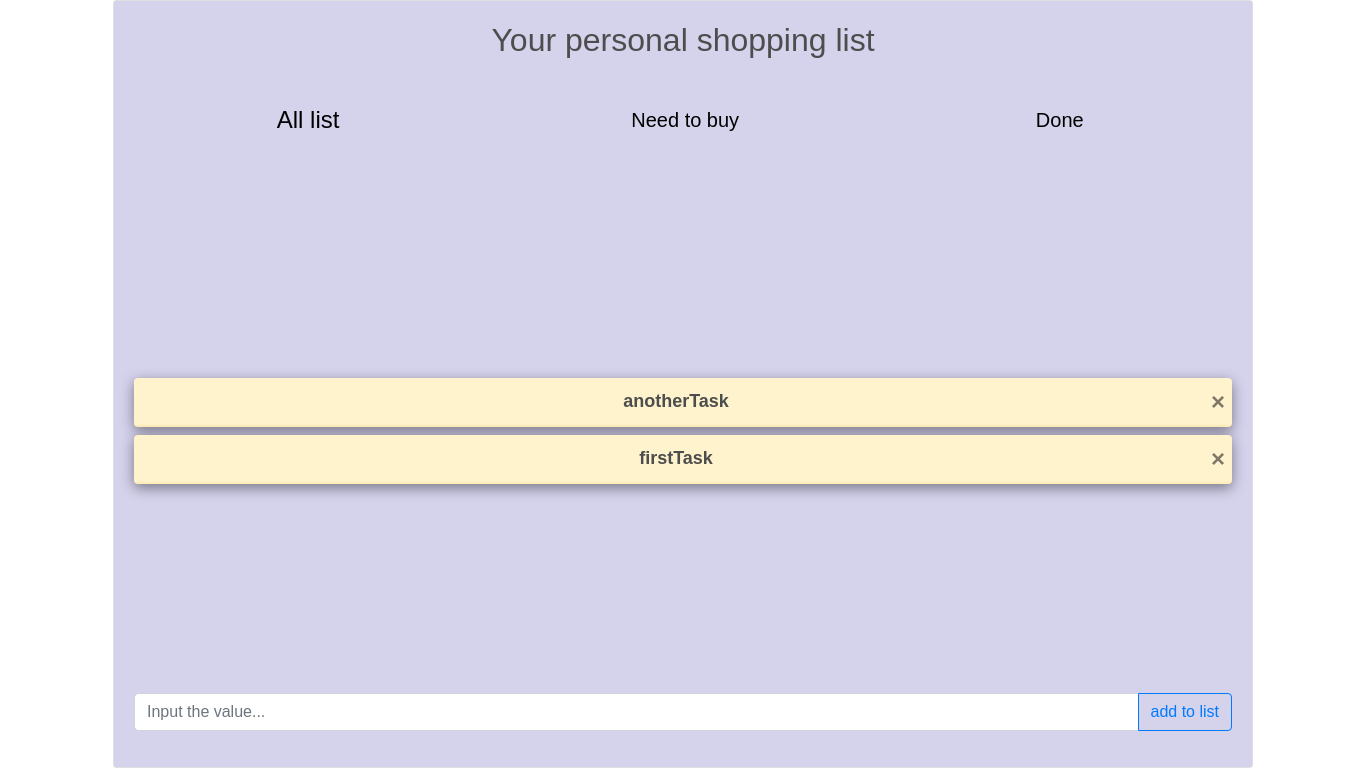
Test case: remove task
Check: the number of elements with test id "listEl" is 2, box [134,378,1232,427]; [134,435,1232,484]
Click the 1st button with test id "close" at (1218, 402), box [1211,381,1225,422]
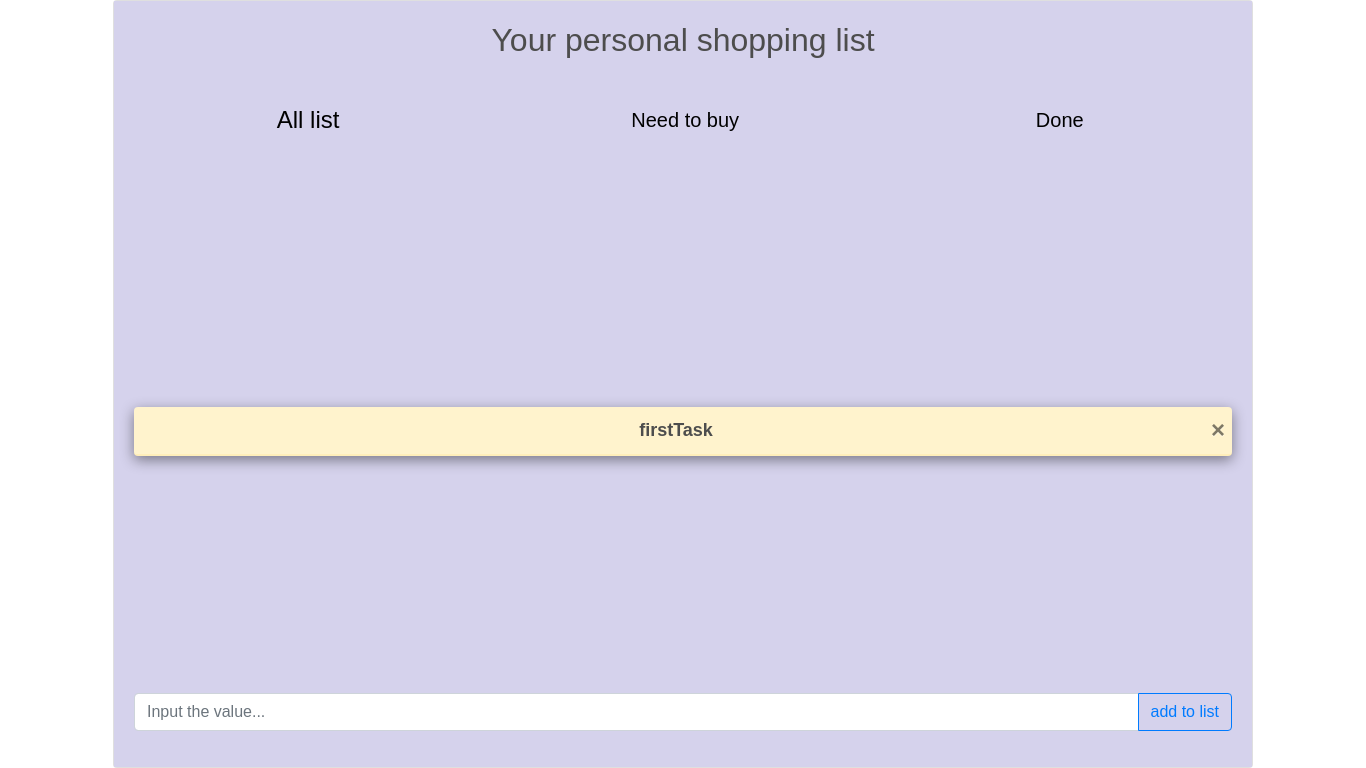
Check: the number of elements with test id "listEl" is 1, box [134,407,1232,456]
